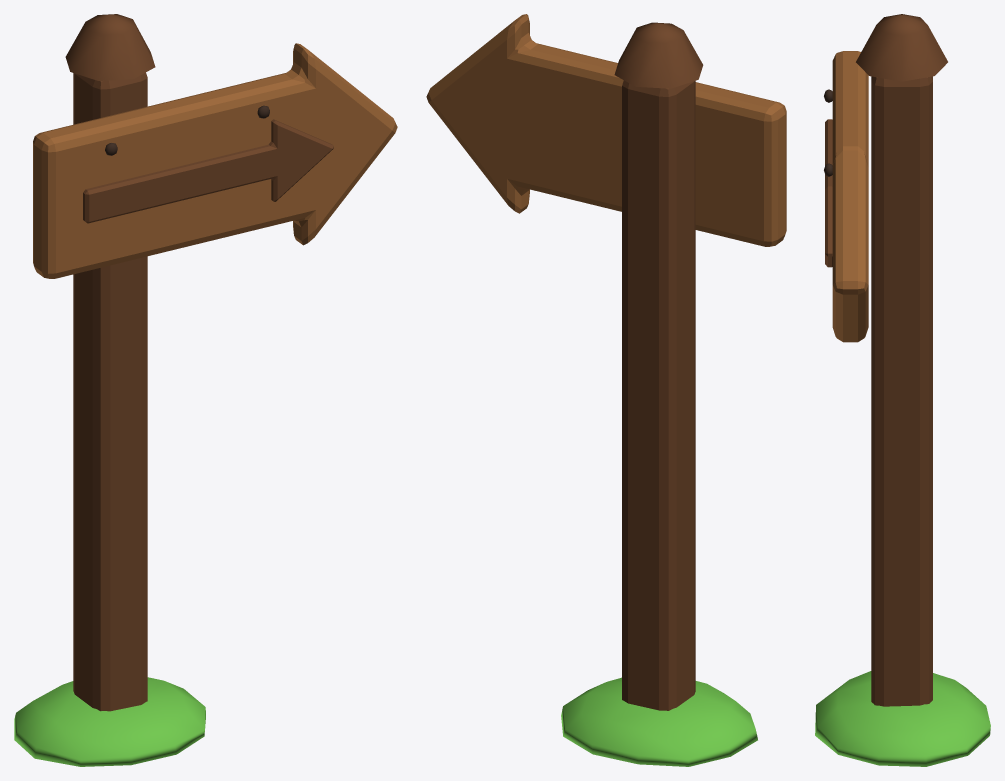
The model's file is signpost.glb.
The picture shows the model from 3 angles, left to right: view 1: azimuth 30°, elevation 25°; view 2: azimuth 150°, elevation 25°; view 3: azimuth 270°, elevation 25°; orthographic projection.
Visible parts, largest first — view 1: signpost; view 2: signpost; view 3: signpost.
Boxes of the visible parts, x1,y1,x2,y2 form: signpost: (14, 14, 397, 766); signpost: (426, 14, 786, 766); signpost: (815, 14, 990, 766).
Size of the model in its own units: 0.7915 by 1.52 by 0.3415.
